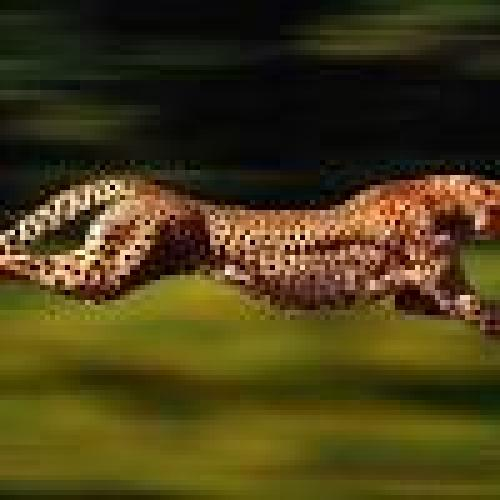cheetah-endangered: (11, 167, 498, 340)
